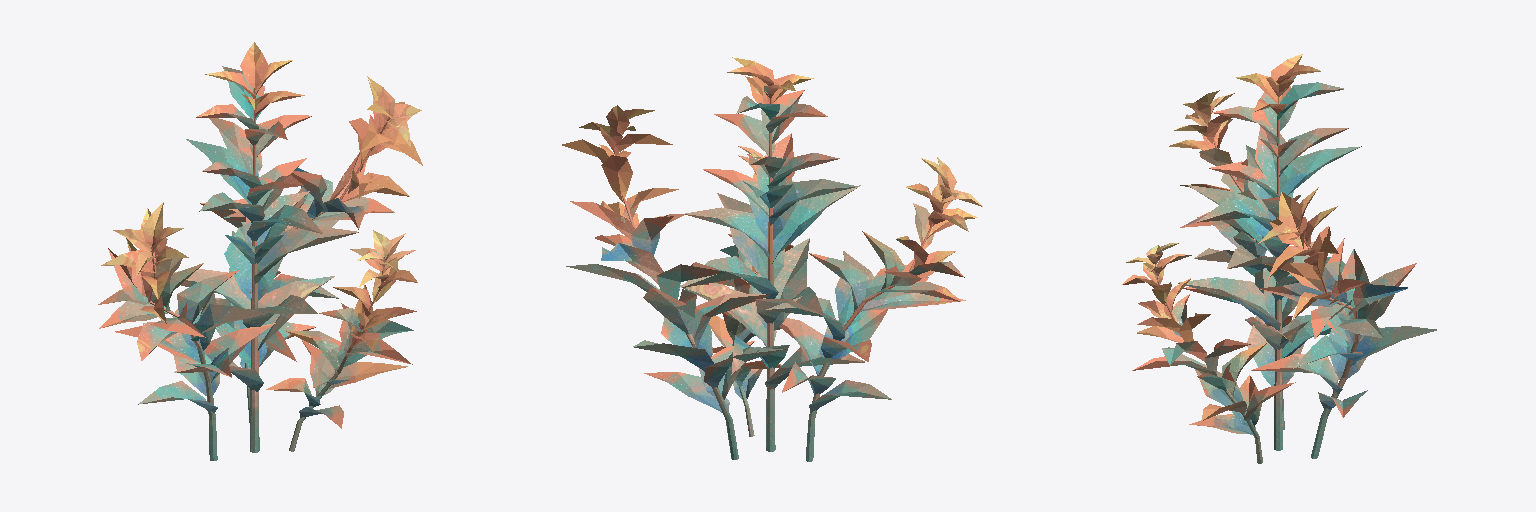
3 views of the same model, side by side, from view 1: azimuth 30°, elevation 25°; view 2: azimuth 150°, elevation 25°; view 3: azimuth 270°, elevation 25° (orthographic).
Parts seen in each view (by area): view 1: plant5_splant_map_0; view 2: plant5_splant_map_0; view 3: plant5_splant_map_0.
Boxes of the visible parts, box(x1,y1,x2,y2) form: plant5_splant_map_0: box(98, 42, 422, 460); plant5_splant_map_0: box(562, 57, 982, 461); plant5_splant_map_0: box(1122, 54, 1436, 463).
Bounding box in the file's own units: 3.21 × 3.34 × 2.48.
1 materials, 1 textured.